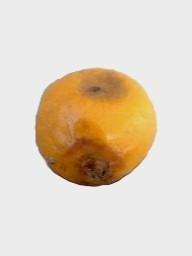Unripe: (35, 67, 156, 185)
